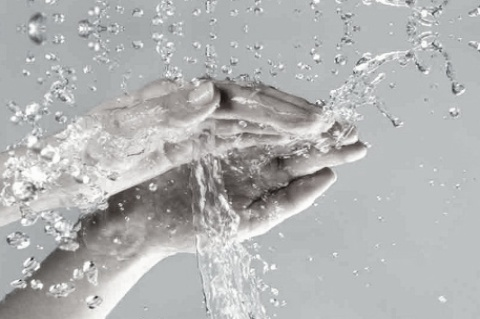washing hand: (79, 55, 416, 318)
